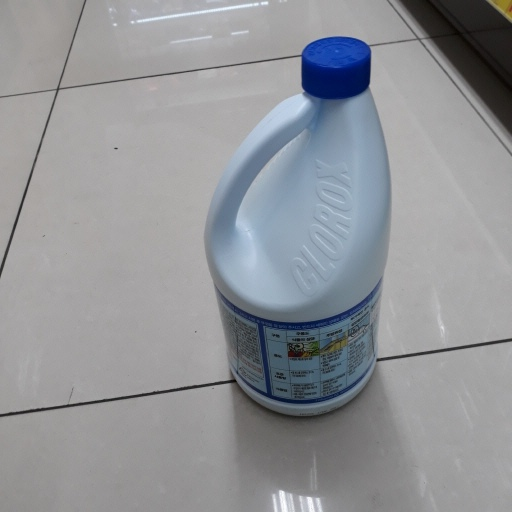Plastic_1: (204, 36, 394, 418)
